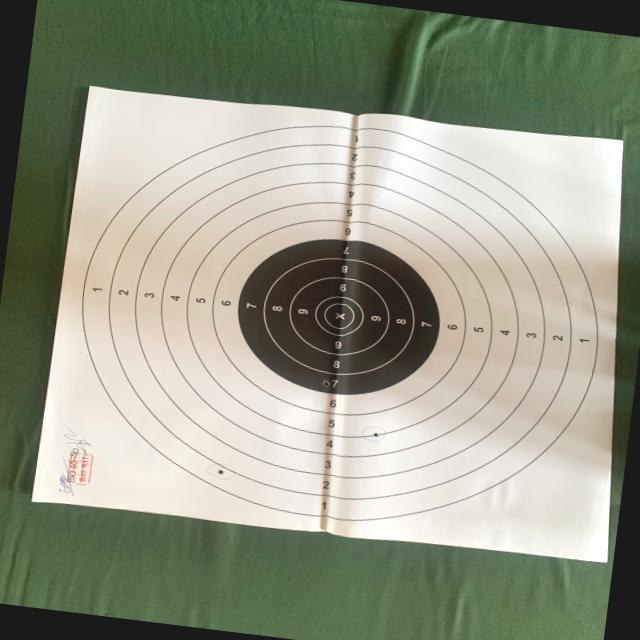bullet: (324, 377, 329, 385), (218, 470, 222, 473), (375, 432, 378, 435)
target: (32, 86, 623, 563)
